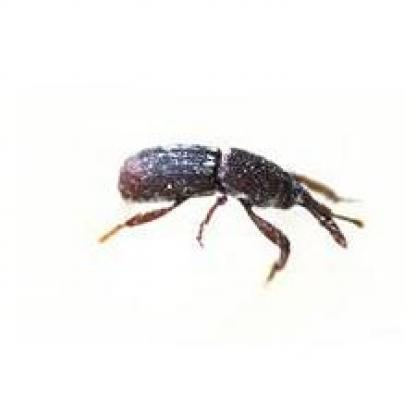rice-bug: (113, 139, 359, 254)
